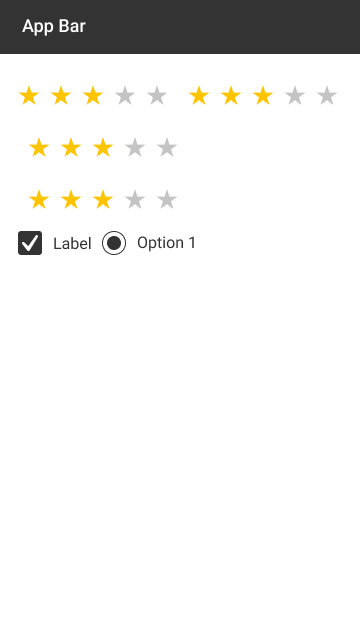checkBox: (16, 230, 93, 257)
radioButton: (102, 230, 196, 257)
ratingBar: (27, 135, 180, 160), (16, 84, 169, 108), (187, 85, 339, 108), (28, 188, 180, 210)
toolbar: (1, 1, 360, 56)
